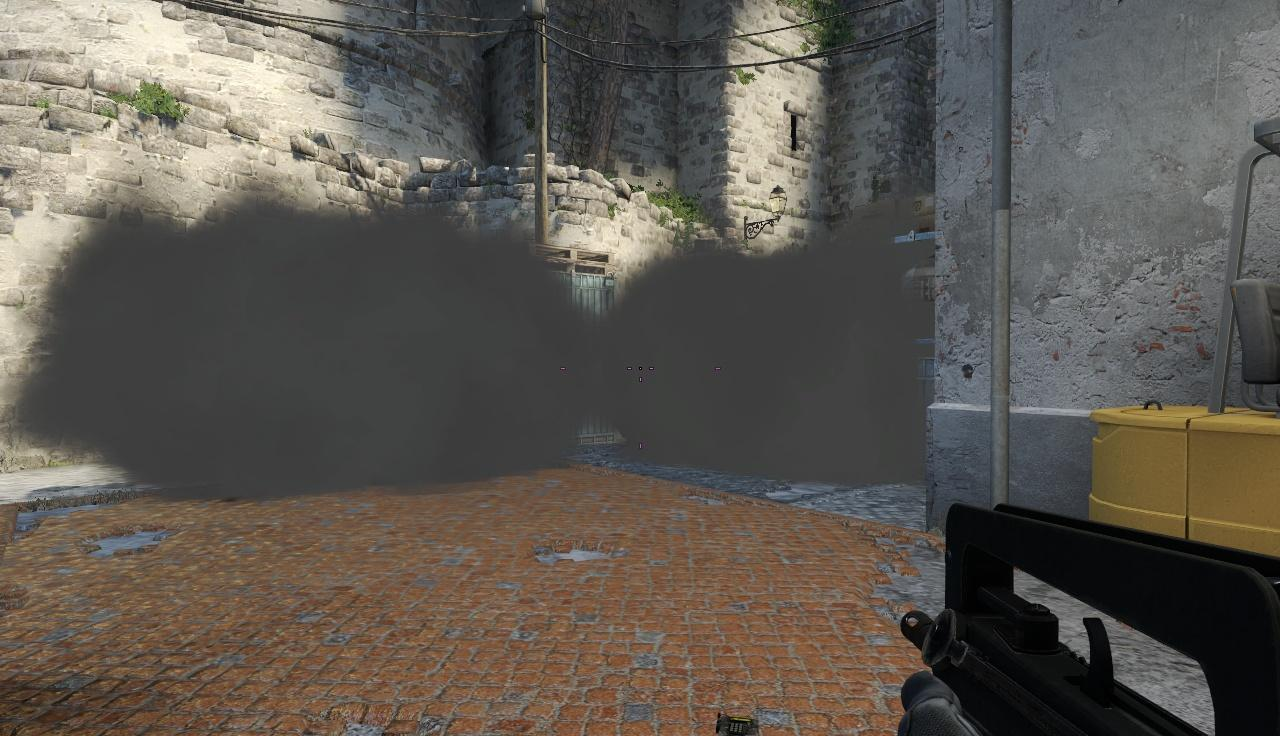rifle: (904, 507, 1280, 736)
